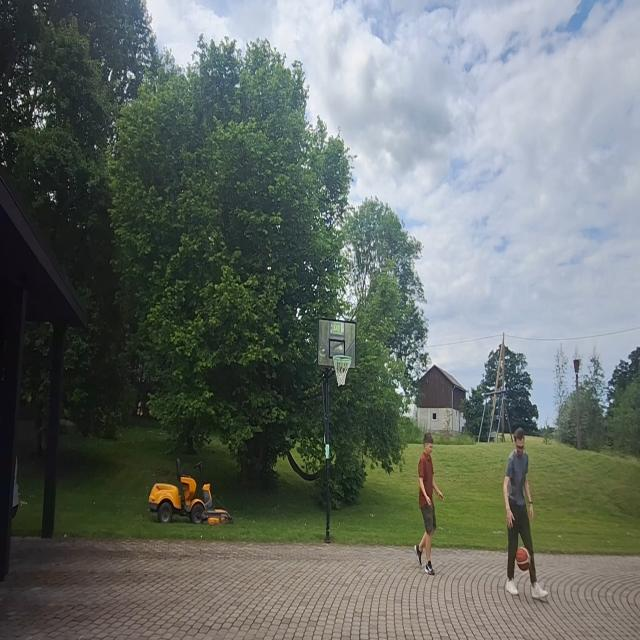ball: (514, 544, 532, 572)
basket: (332, 353, 353, 388)
player: (502, 422, 549, 603), (414, 430, 444, 580)
